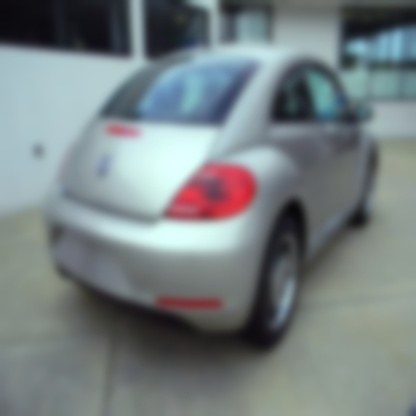Vehicle: (42, 39, 380, 350)
